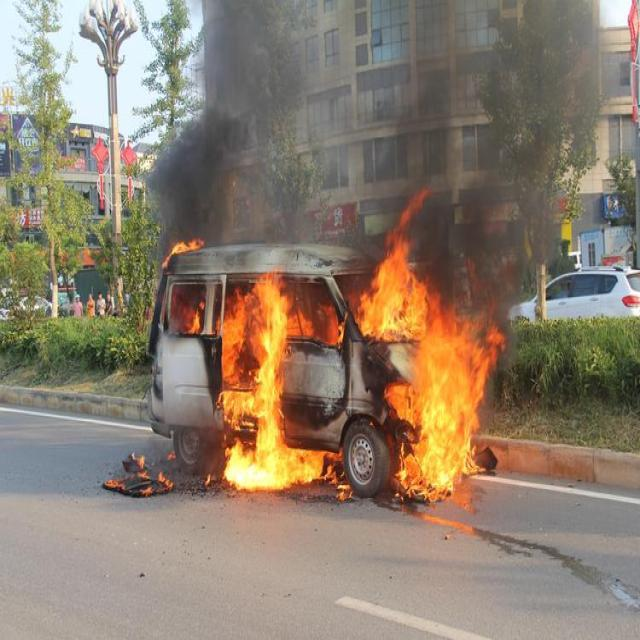Fire: (220, 276, 318, 492), (386, 337, 498, 501), (358, 187, 474, 336), (164, 238, 208, 266)
Smoke: (149, 105, 254, 232)
